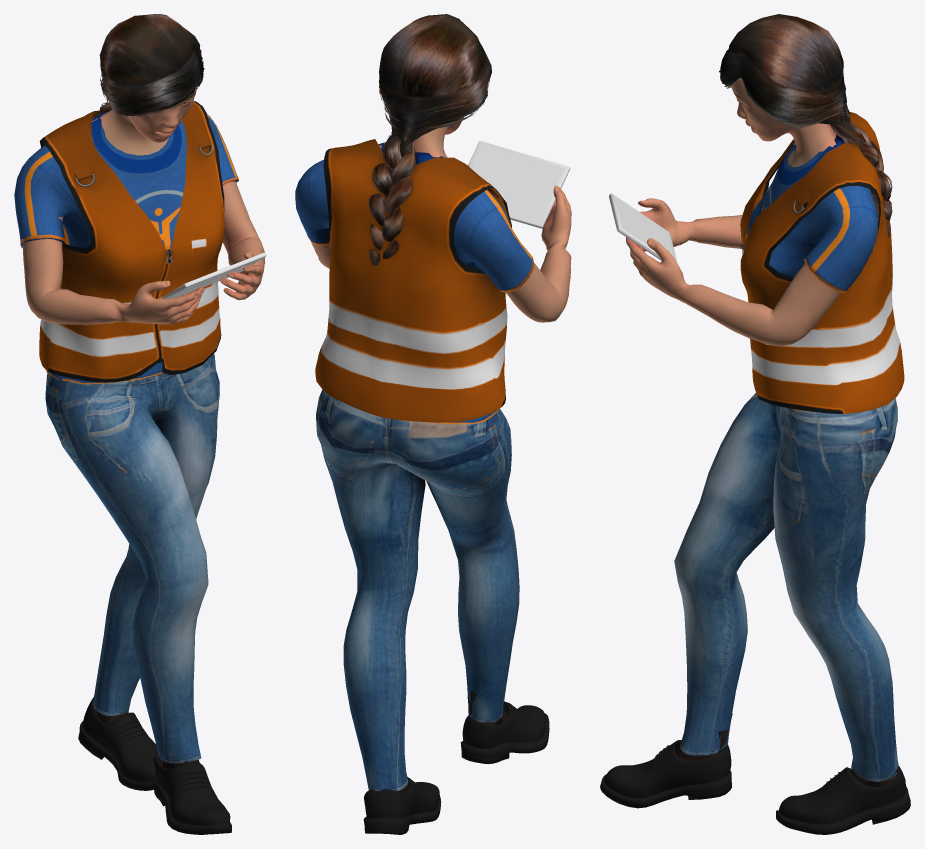
The model's file is Idol_without_mask.fbx.
3 renders of one model, left to right at view 1: azimuth 30°, elevation 25°; view 2: azimuth 150°, elevation 25°; view 3: azimuth 270°, elevation 25°, orthographic. The views are drawn at different scales.
Visible parts, largest first — view 1: AsianWoman_Mesh; view 2: AsianWoman_Mesh; view 3: AsianWoman_Mesh.
Part boxes in pixels (box(x1,y1,x2,y2)): AsianWoman_Mesh: box(14, 14, 266, 834); AsianWoman_Mesh: box(295, 14, 571, 834); AsianWoman_Mesh: box(600, 14, 910, 834).
Size of the model in its own units: 53.5 by 173 by 60.61.
7 materials, 6 textured.
